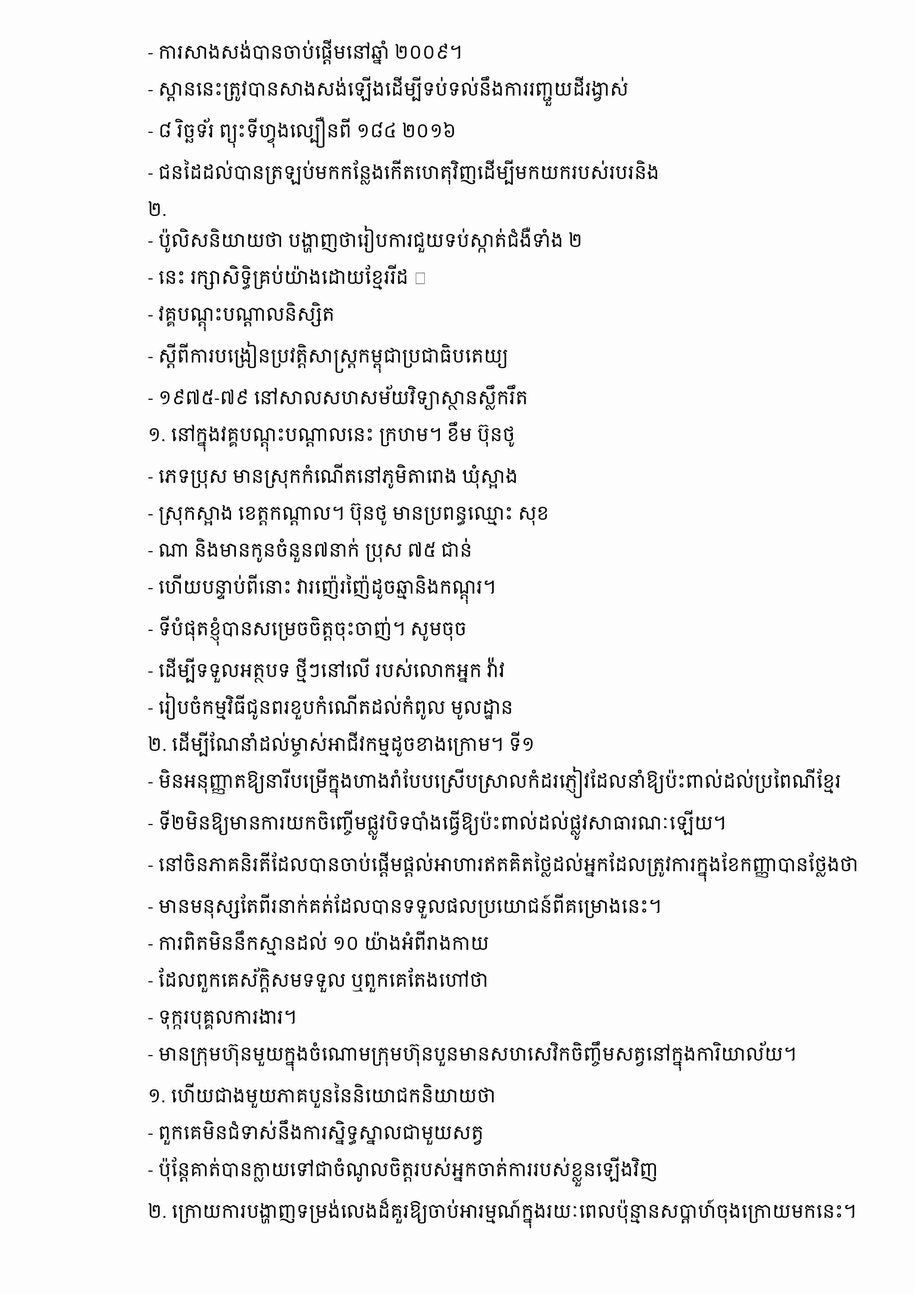text: (148, 766, 846, 798), (148, 1198, 861, 1229), (148, 852, 863, 882), (148, 1041, 801, 1071), (148, 810, 731, 840), (148, 1157, 663, 1187), (148, 76, 633, 106), (148, 893, 666, 919), (148, 159, 664, 185), (148, 226, 587, 253), (148, 341, 513, 373), (148, 422, 520, 452), (148, 574, 501, 604), (148, 731, 539, 757), (148, 116, 461, 148), (148, 693, 518, 720), (148, 463, 523, 489), (148, 616, 472, 646), (148, 385, 533, 410), (148, 657, 510, 683), (148, 503, 554, 526), (148, 930, 494, 956), (148, 967, 493, 993), (148, 1083, 501, 1108), (148, 1120, 488, 1145), (148, 39, 467, 65), (148, 538, 477, 563), (148, 264, 432, 290), (148, 302, 339, 332), (148, 1009, 301, 1030), (148, 201, 172, 216)
